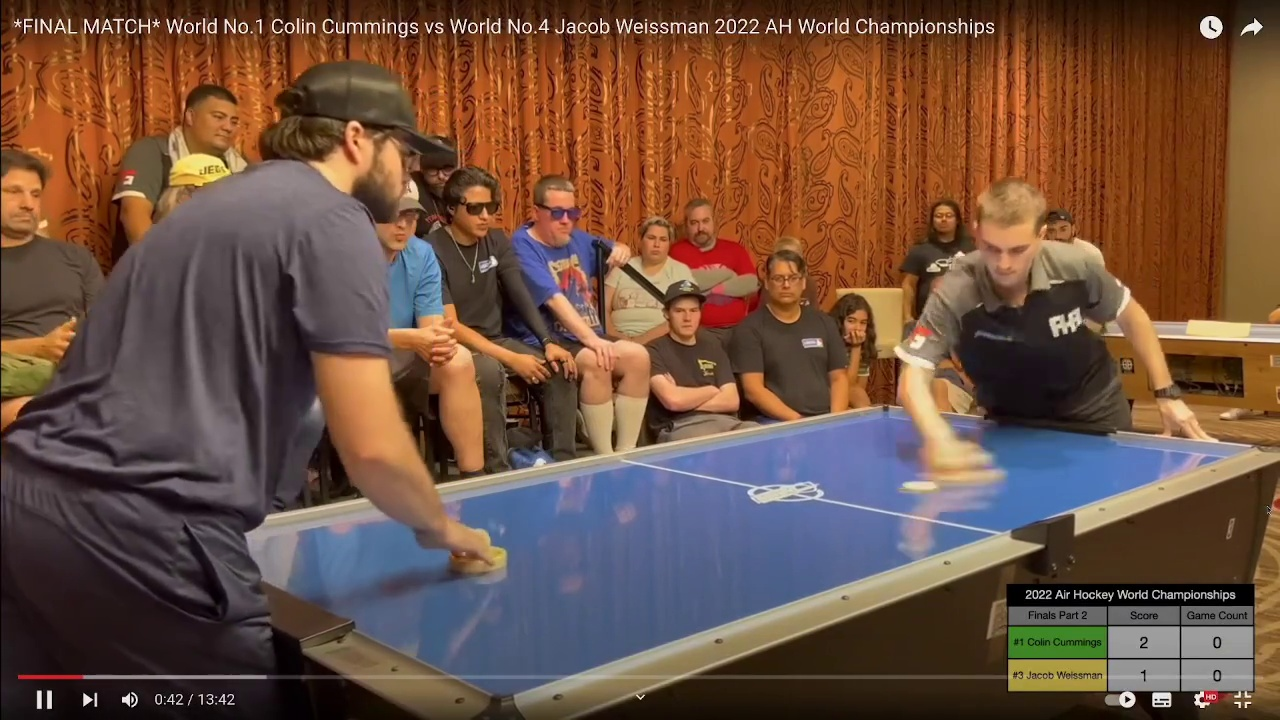player: (924, 435, 993, 482), (449, 528, 511, 575)
puck: (901, 477, 944, 496)
table: (178, 406, 1280, 691)
